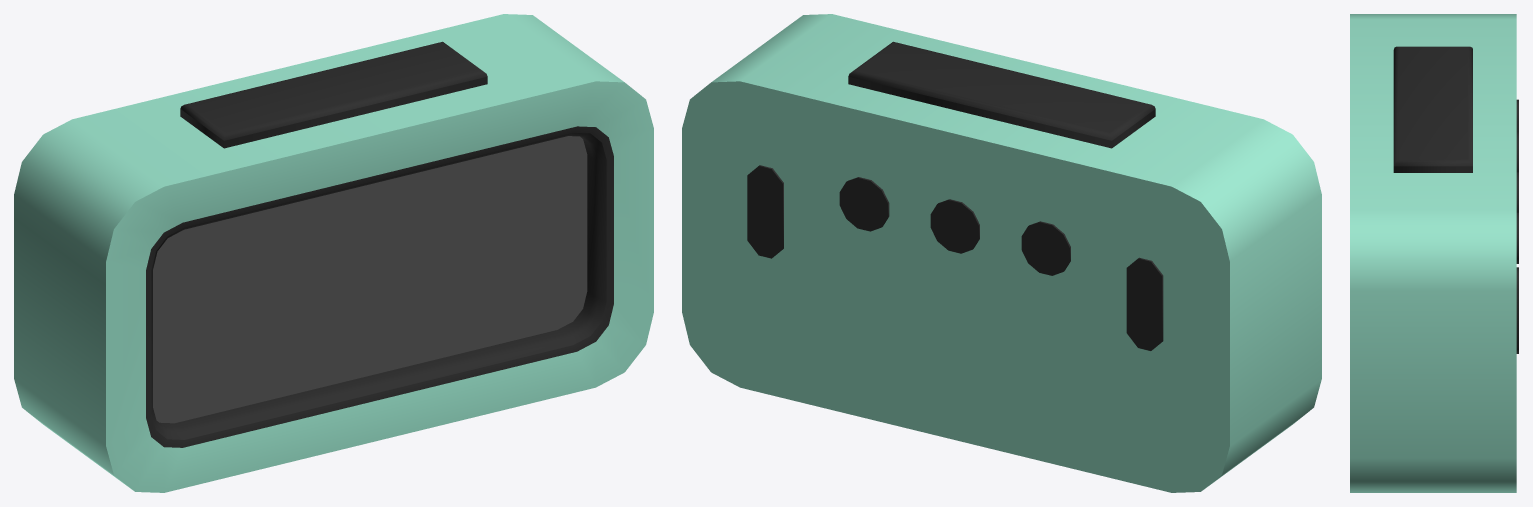
File: Relogio_Digital.fbx
3 renders of one model, left to right at view 1: azimuth 30°, elevation 25°; view 2: azimuth 150°, elevation 25°; view 3: azimuth 270°, elevation 25°, orthographic. The views are drawn at different scales.
Parts seen in each view (by area): view 1: Relogio_Digital; view 2: Relogio_Digital; view 3: Relogio_Digital.
Part boxes in pixels (x1,y1,x2,y2): Relogio_Digital: [14, 14, 653, 492]; Relogio_Digital: [682, 14, 1321, 492]; Relogio_Digital: [1350, 14, 1518, 492].
Size of the model in its own units: 20.33 by 11.32 by 5.99.
